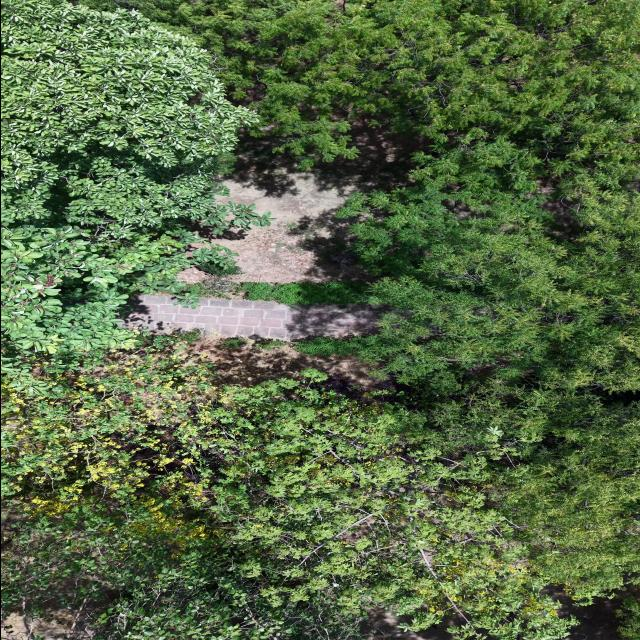DRY_AREA: (214, 119, 428, 282), (214, 123, 426, 282), (221, 120, 429, 282), (214, 126, 410, 282), (128, 296, 392, 398), (123, 295, 384, 392), (213, 165, 389, 283), (213, 167, 371, 283), (213, 174, 361, 282), (213, 174, 360, 282), (178, 336, 395, 401), (183, 337, 391, 402), (187, 338, 387, 398), (127, 296, 381, 339), (125, 296, 291, 339), (1, 583, 98, 639), (362, 609, 464, 639), (362, 609, 462, 639), (362, 610, 463, 639), (1, 610, 94, 639)
PATHWAYS: (122, 295, 383, 340)
VEGETATION_TREE: (1, 0, 639, 639), (136, 0, 639, 391), (3, 342, 639, 639), (4, 354, 567, 639), (1, 0, 269, 390), (297, 141, 639, 393), (130, 0, 639, 167), (238, 281, 367, 305)
